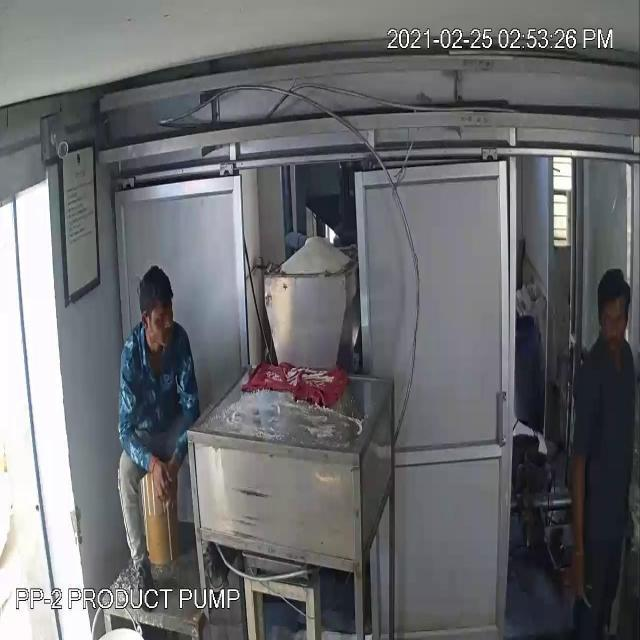no hat: (131, 263, 183, 328)
